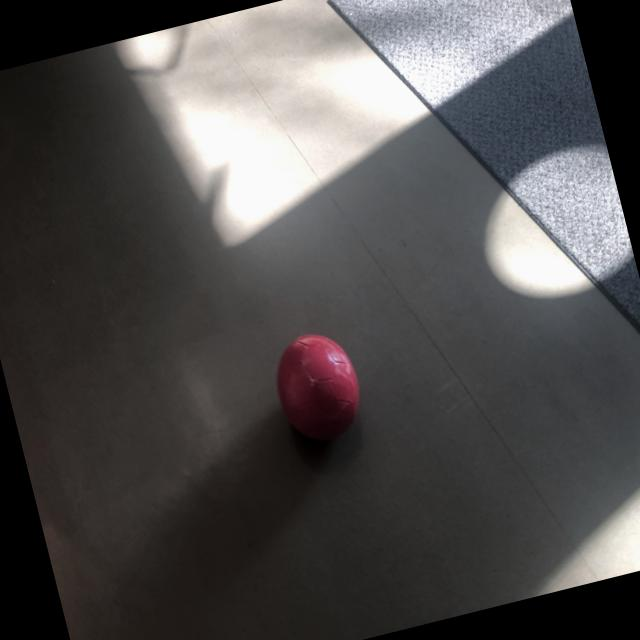red_ball: (265, 325, 371, 452)
